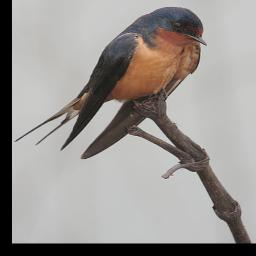Swallow: (17, 5, 209, 159)
